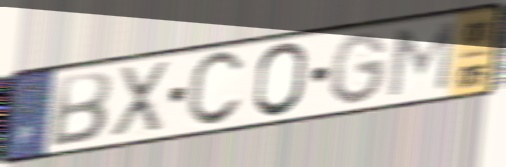B: (46, 68, 115, 149)
C: (183, 48, 247, 131)
G: (329, 30, 390, 108)
M: (384, 19, 459, 100)
O: (250, 40, 310, 120)
X: (107, 58, 172, 140)
